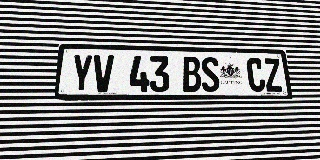3: (150, 56, 169, 92)
4: (130, 55, 149, 92)
B: (182, 56, 202, 92)
C: (246, 58, 266, 92)
S: (200, 57, 220, 92)
V: (92, 55, 114, 92)
Y: (70, 54, 93, 92)
Z: (263, 58, 283, 92)
